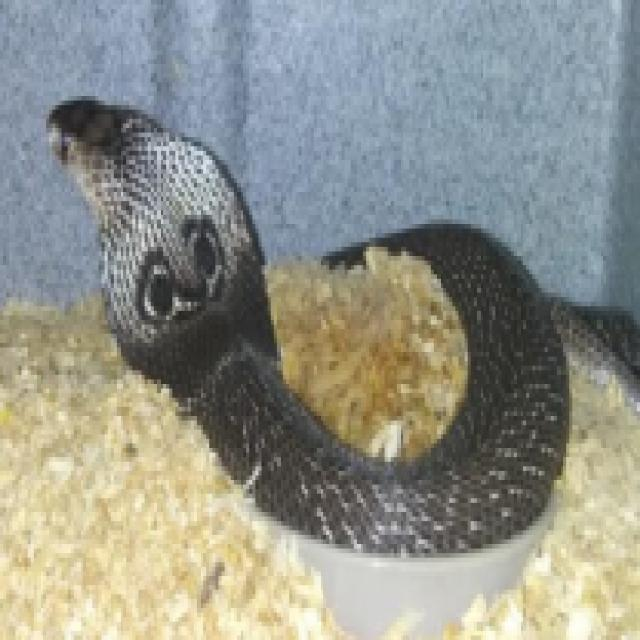Snake: (46, 87, 640, 561)
